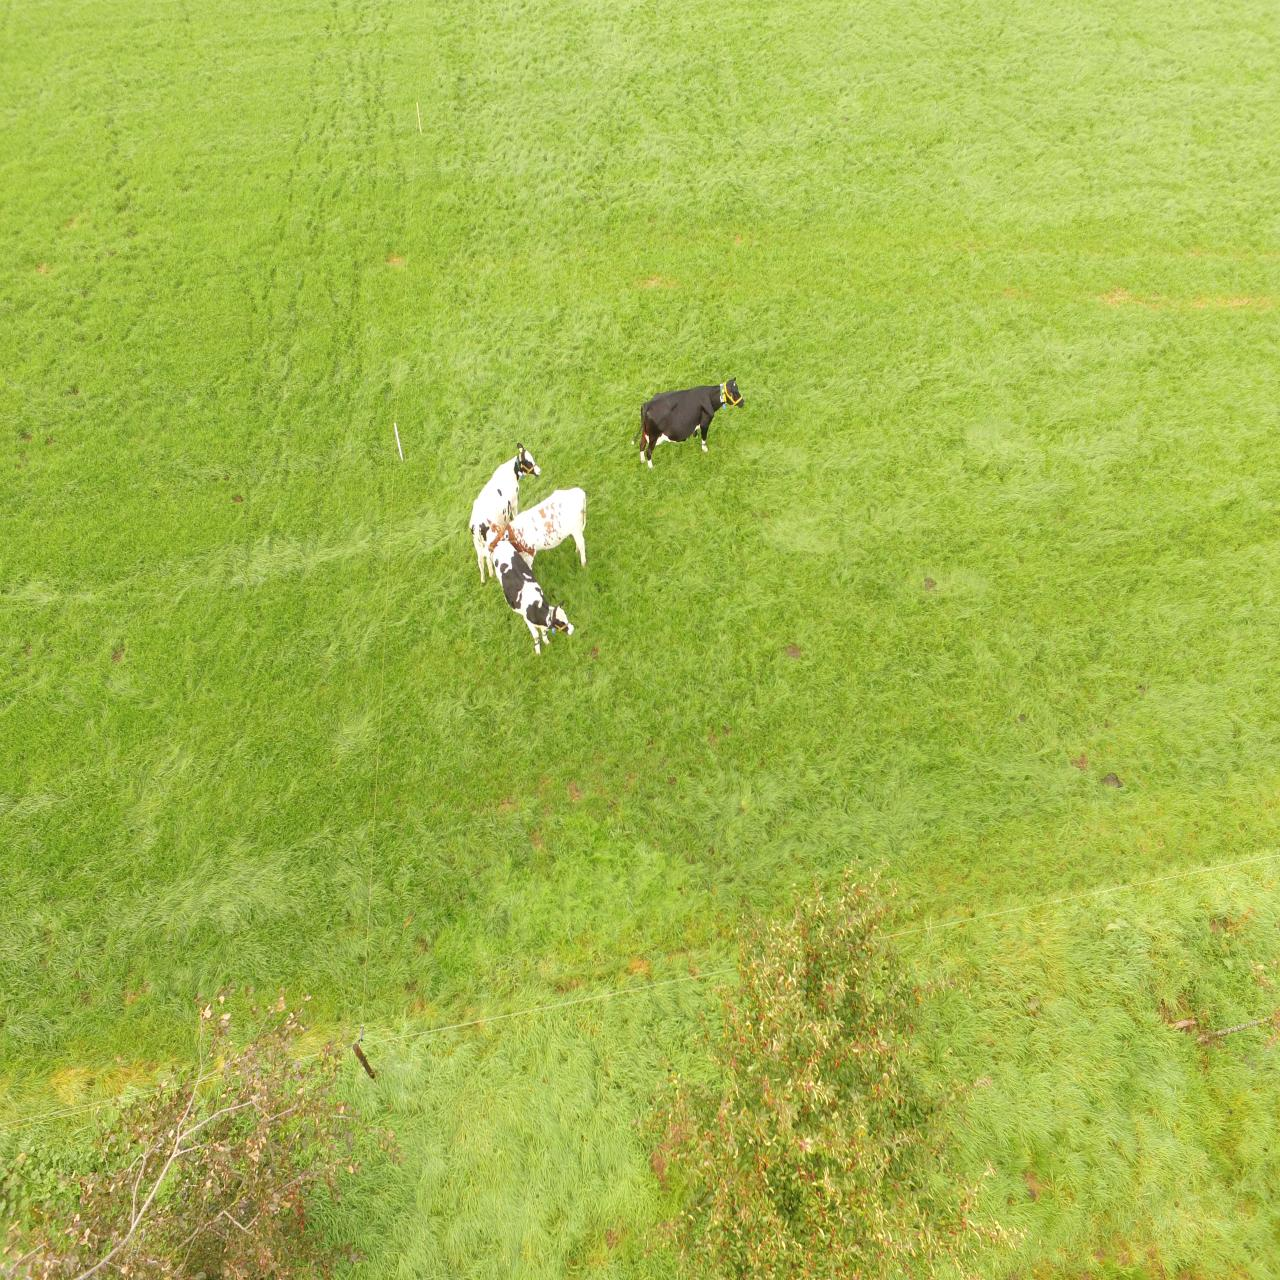cow: (636, 374, 749, 468), (486, 539, 573, 654), (469, 443, 539, 583), (481, 486, 588, 567)
